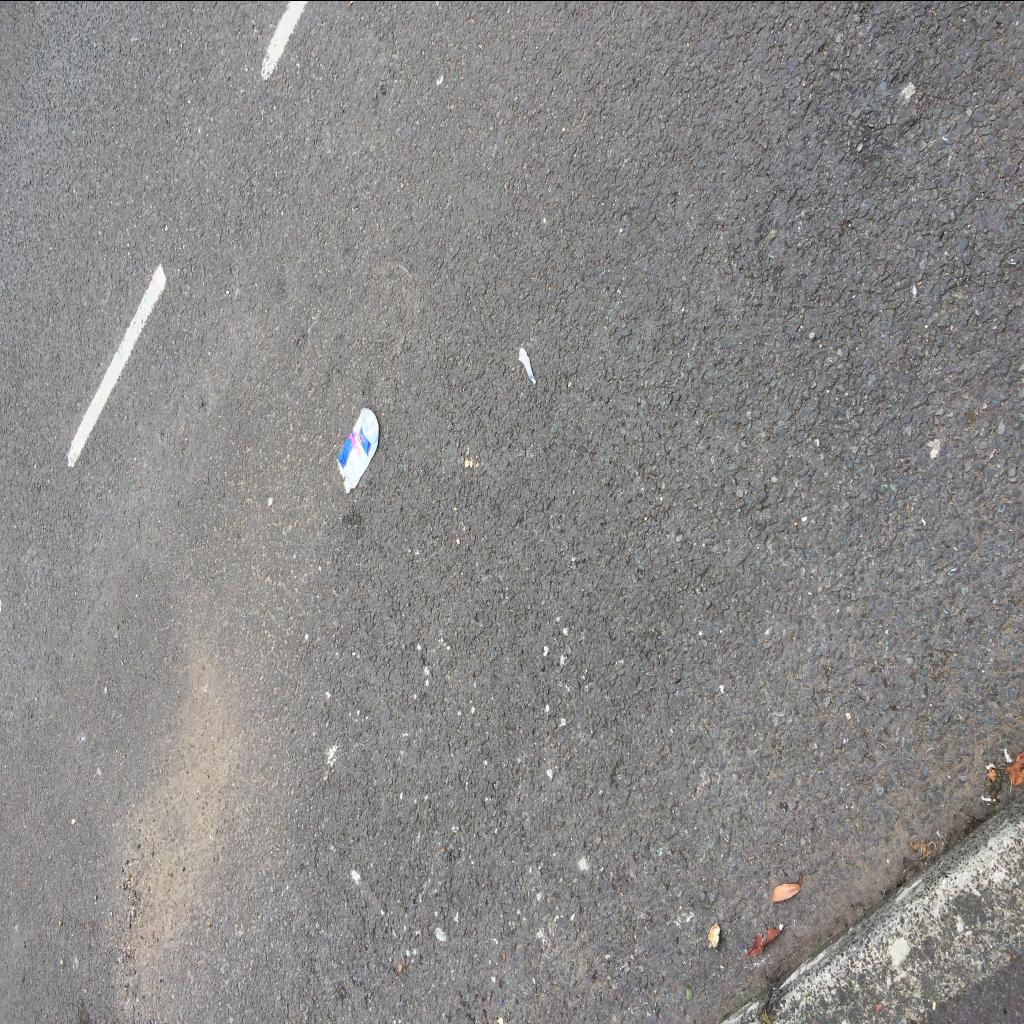Drink can: (337, 408, 379, 492)
Unlabeled litter: (518, 346, 536, 384)
